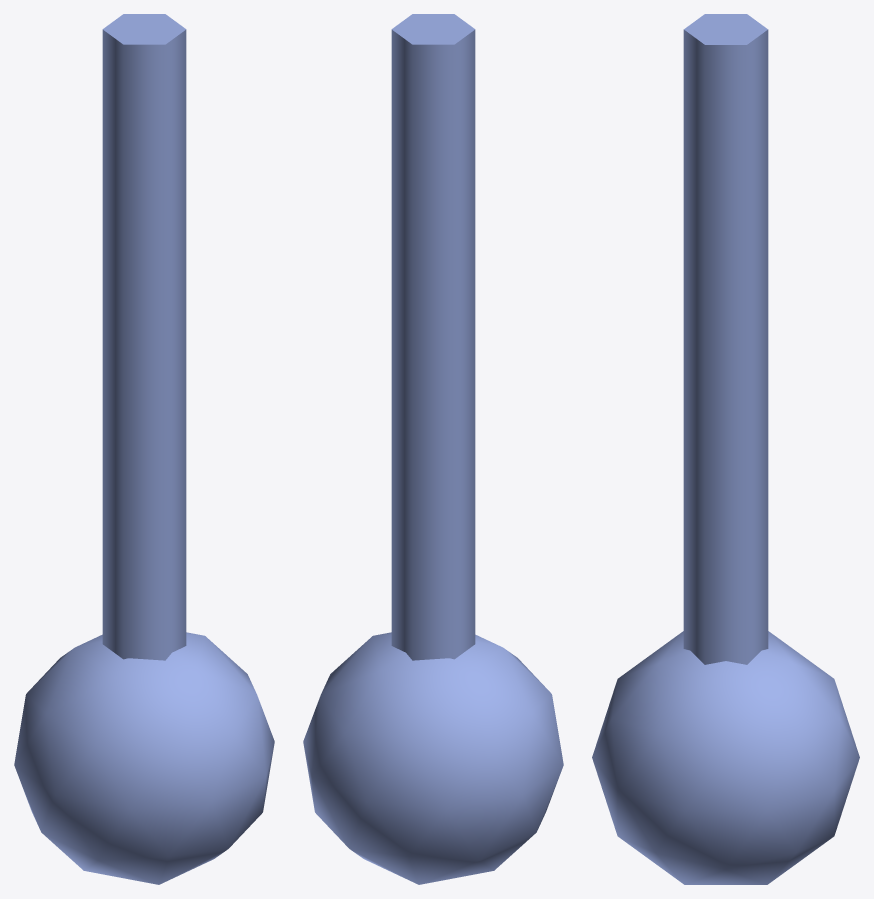
The model's file is Bell_Hammer.glb.
The picture shows the model from 3 angles, left to right: view 1: azimuth 30°, elevation 25°; view 2: azimuth 150°, elevation 25°; view 3: azimuth 270°, elevation 25°; orthographic projection.
Parts seen in each view (by area): view 1: Cylinder.017; view 2: Cylinder.017; view 3: Cylinder.017.
Boxes of the visible parts, <box> form: Cylinder.017: <box>14,14,274,884</box>; Cylinder.017: <box>303,14,563,884</box>; Cylinder.017: <box>592,14,859,884</box>.
Size of the model in its own units: 0.7451 by 2.74 by 0.7835.
